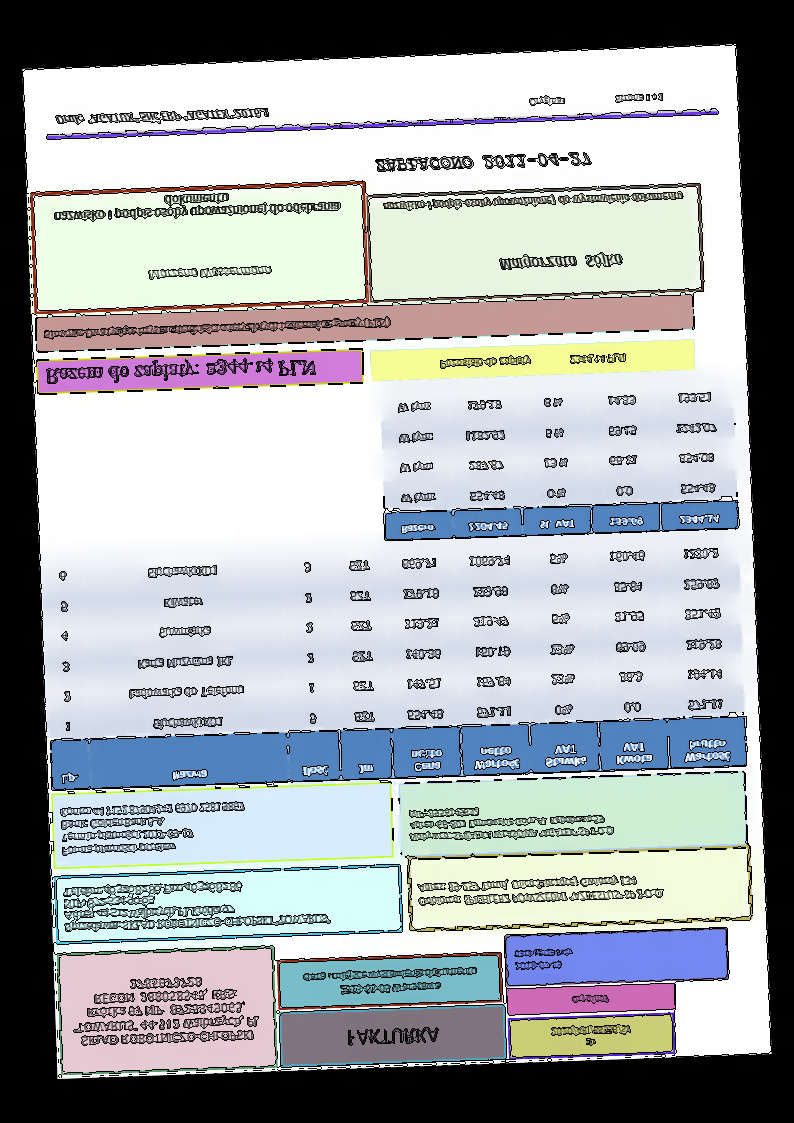Table: (42, 530, 749, 792), (378, 376, 740, 543)
TextBox: (61, 874, 332, 936), (70, 971, 262, 1049), (50, 187, 343, 226), (58, 800, 247, 859), (42, 313, 392, 344), (43, 354, 318, 392), (414, 870, 666, 911), (406, 799, 617, 846), (381, 189, 685, 215), (373, 148, 592, 176), (301, 965, 479, 998), (54, 106, 271, 129), (437, 349, 628, 374), (526, 89, 667, 112), (497, 251, 624, 275), (144, 262, 275, 284), (549, 1021, 634, 1052), (344, 1024, 443, 1049), (512, 945, 574, 974), (570, 991, 610, 1008)
